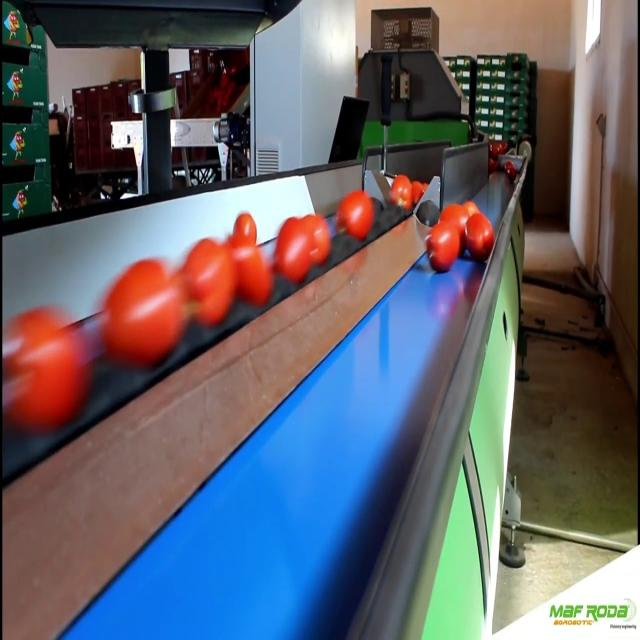Tomato: (5, 315, 83, 429), (104, 263, 180, 362), (179, 236, 236, 324), (275, 215, 308, 279), (236, 253, 273, 306), (334, 190, 372, 240), (427, 223, 458, 267), (303, 214, 331, 261), (465, 216, 494, 259), (440, 203, 468, 234), (233, 212, 255, 245), (389, 174, 410, 206), (504, 161, 518, 184), (411, 182, 422, 200), (492, 141, 501, 160)
